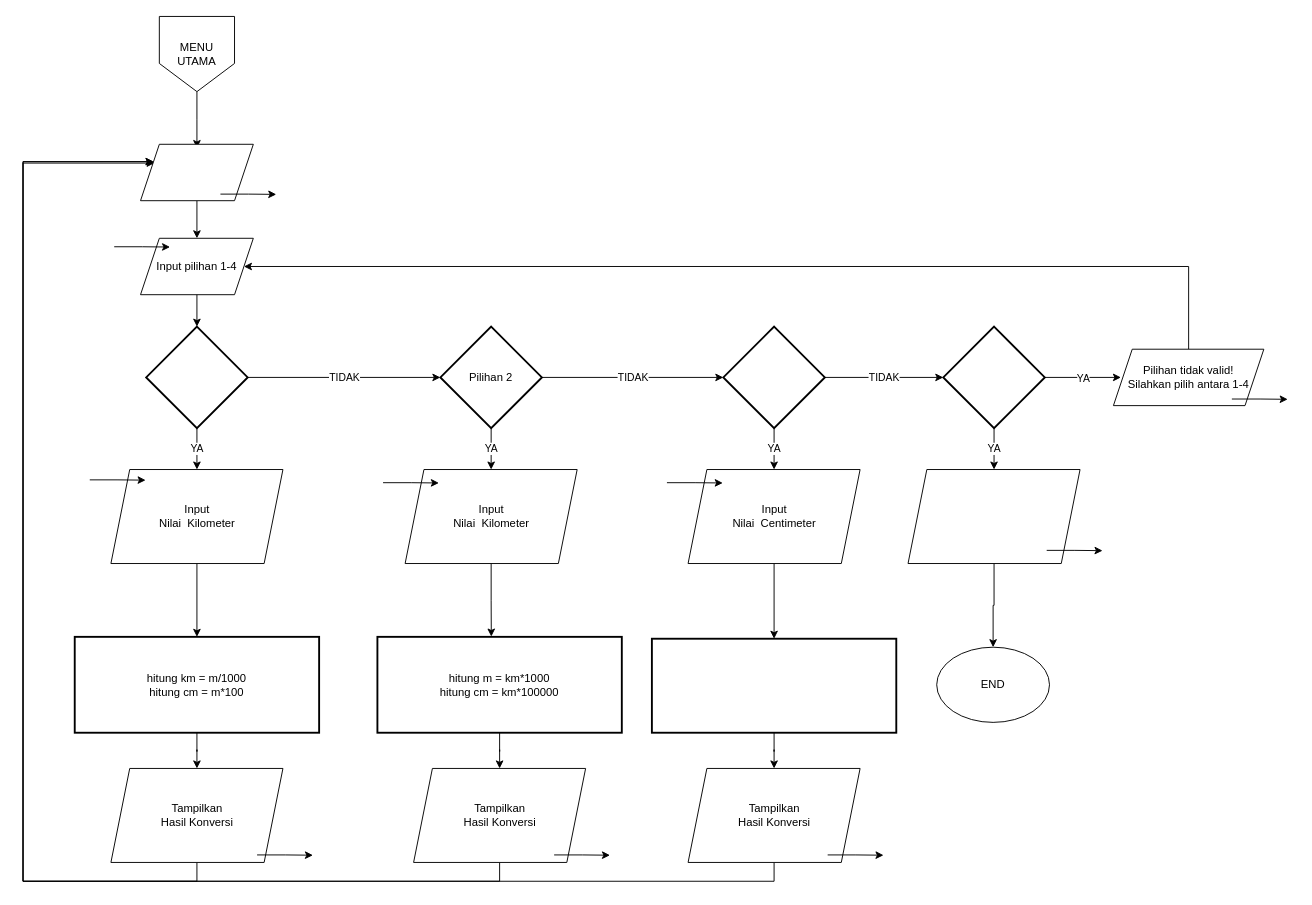
Image size: 1312x905. Some labels were removed from this diagram. The shapes that lost their labels are listed below. From the top down, each one's centre as x and y in pixels, then its label:
At (196,172): "Tampilkan MENU UTAMA".
At (196,377): "Pilihan1".
At (773,377): "Pilihan 3".
At (993,377): "Pilihan 4".
At (993,516): "Tampilkan Terima Kasih".
At (773,685): "hitung m = cm/100 hitung km = cm/100000".
